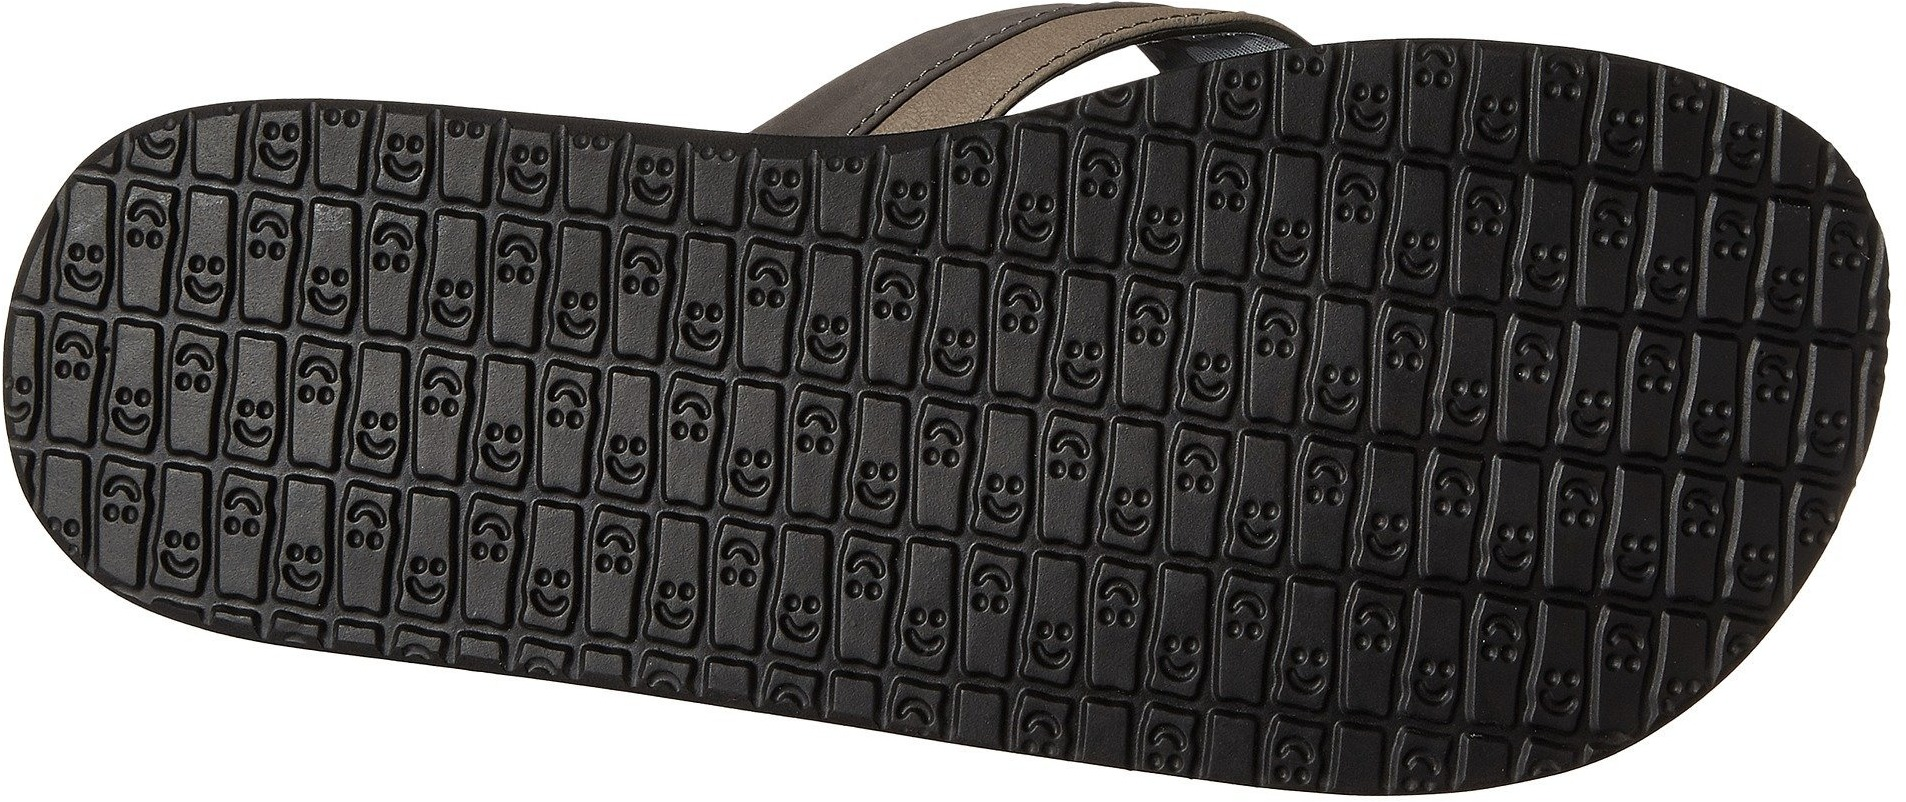circle: (540, 211, 1744, 637)
quad: (540, 211, 1744, 637)
